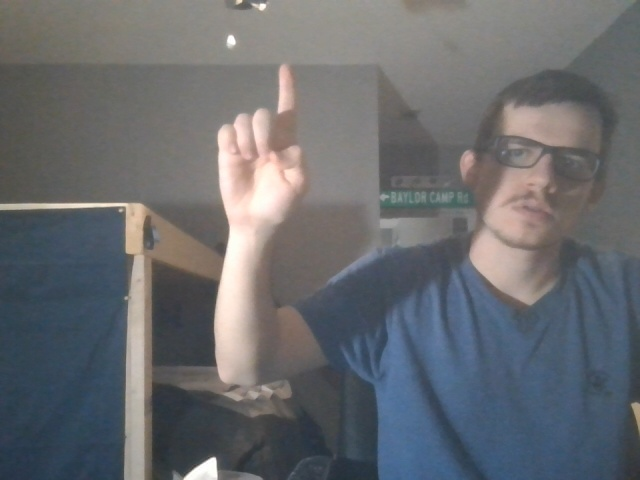D: (198, 64, 327, 227)
